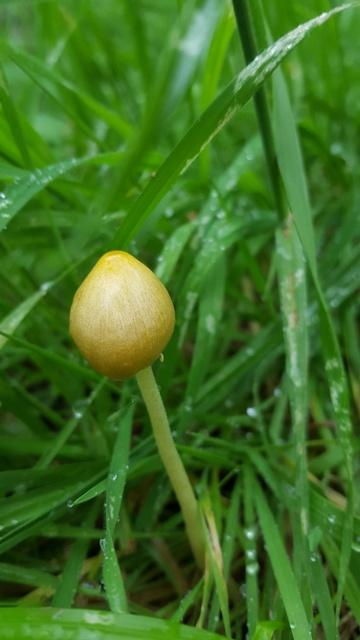edible_mushroom: (67, 249, 213, 574)
